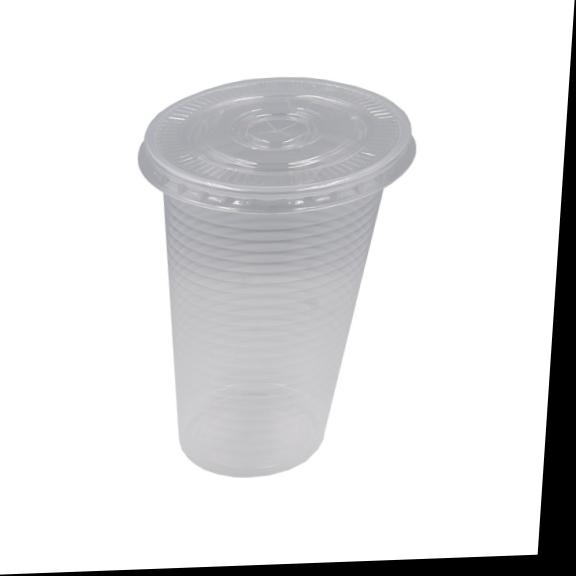Plastik: (139, 78, 415, 476)
